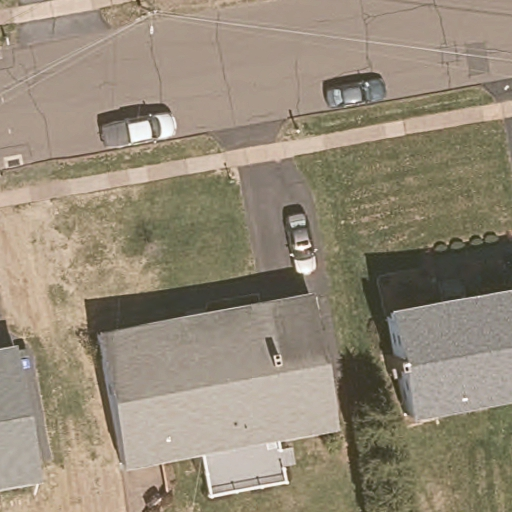DT: (133, 1, 160, 36)
